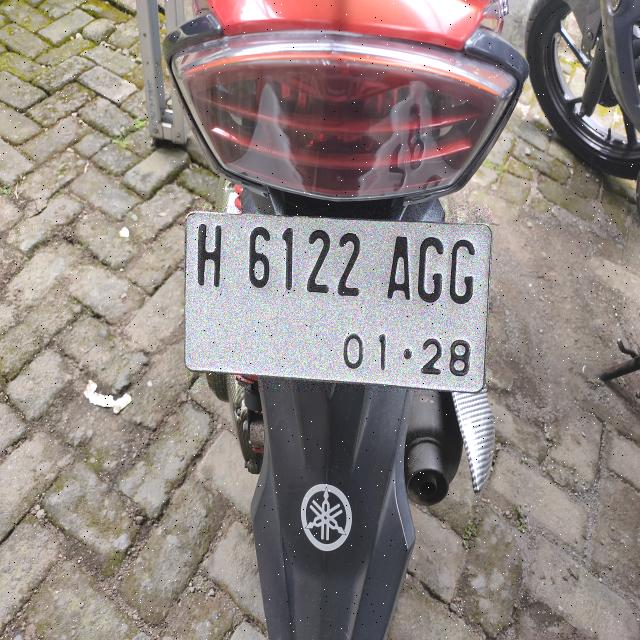plate: (186, 212, 491, 391)
